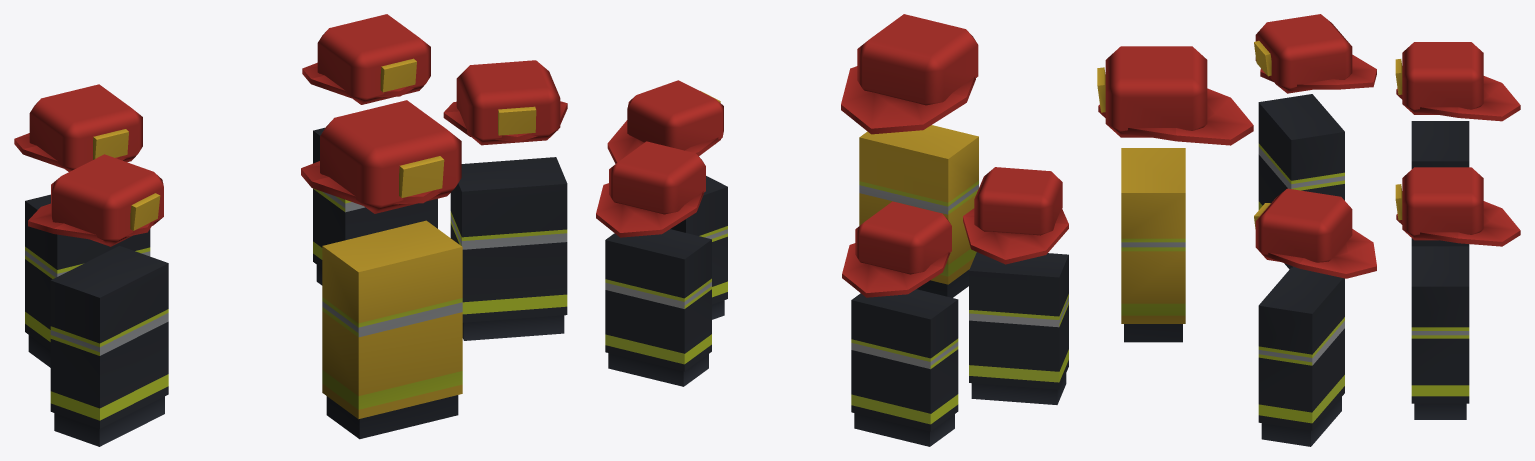
Rendered from engine-six-lod2.glb.
3 renders of one model, left to right at view 1: azimuth 30°, elevation 25°; view 2: azimuth 150°, elevation 25°; view 3: azimuth 270°, elevation 25°, orthographic. The views are drawn at different scales.
Parts seen in each view (by area): view 1: cap_torso, att3_torso, att2_torso, cap_hat, att3_hat, att0_hat, att2_hat, att1_hat, att1_torso, att0_torso; view 2: att1_torso, att0_torso, att3_torso, cap_hat, cap_torso, att3_hat, att0_hat, att1_hat, att2_hat, att2_torso; view 3: att2_torso, cap_torso, cap_hat, att0_torso, att3_torso, att2_hat, att0_hat, att1_hat, att3_hat, att1_torso.
Boxes of the visible parts, x1=… form: cap_torso: x1=322, y1=220, x2=462, y2=439; att3_torso: x1=50, y1=246, x2=168, y2=446; att2_torso: x1=450, y1=157, x2=567, y2=340; cap_hat: x1=301, y1=100, x2=461, y2=213; att3_hat: x1=28, y1=154, x2=163, y2=246; att0_hat: x1=302, y1=14, x2=430, y2=104; att2_hat: x1=443, y1=60, x2=567, y2=145; att1_hat: x1=14, y1=84, x2=142, y2=171; att1_torso: x1=25, y1=194, x2=150, y2=367; att0_torso: x1=313, y1=127, x2=437, y2=285; att1_torso: x1=851, y1=289, x2=958, y2=446; att0_torso: x1=605, y1=229, x2=711, y2=386; att3_torso: x1=969, y1=252, x2=1068, y2=404; cap_hat: x1=841, y1=14, x2=978, y2=134; cap_torso: x1=859, y1=125, x2=978, y2=297; att3_hat: x1=963, y1=167, x2=1068, y2=264; att0_hat: x1=596, y1=141, x2=705, y2=237; att1_hat: x1=842, y1=201, x2=951, y2=297; att2_hat: x1=607, y1=80, x2=723, y2=163; att2_torso: x1=670, y1=176, x2=727, y2=319; att2_torso: x1=1258, y1=267, x2=1344, y2=446; cap_torso: x1=1121, y1=148, x2=1185, y2=342; cap_hat: x1=1097, y1=46, x2=1253, y2=145; att0_torso: x1=1411, y1=246, x2=1469, y2=419; att3_torso: x1=1258, y1=94, x2=1344, y2=269; att2_hat: x1=1254, y1=188, x2=1376, y2=278; att0_hat: x1=1395, y1=167, x2=1520, y2=246; att1_hat: x1=1395, y1=42, x2=1520, y2=121; att3_hat: x1=1254, y1=14, x2=1376, y2=93; att1_torso: x1=1411, y1=121, x2=1469, y2=246.
Bounding box in the file's own units: 2.21 × 1.27 × 1.77.
